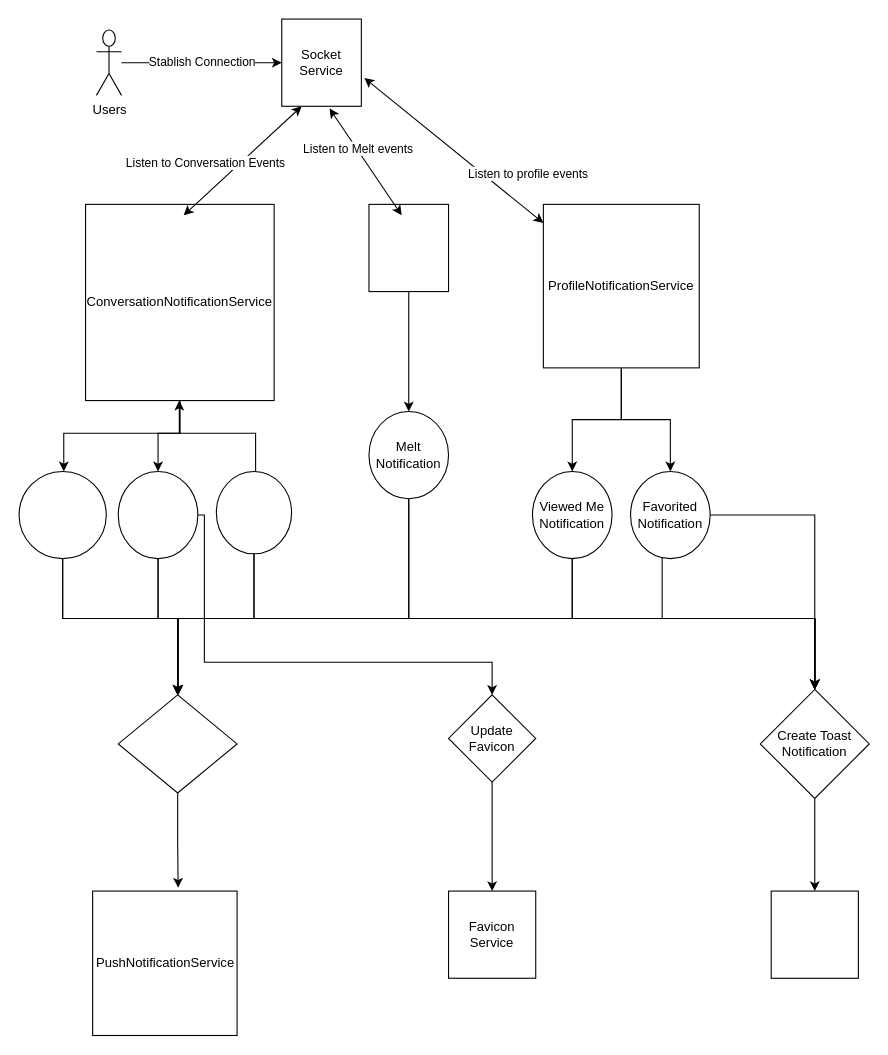
This 888x1055 diagram has some shape labels left out. Here are the shapes that lost their labels. From the top down, the box of each, then its label:
(368, 203, 449, 292): MeltService
(18, 470, 106, 559): Read Conversation Notification
(117, 470, 198, 559): Message Received Notification
(215, 470, 292, 554): Is Writing Notification
(117, 694, 237, 793): Create Push Notification
(770, 890, 858, 978): Toast Service
